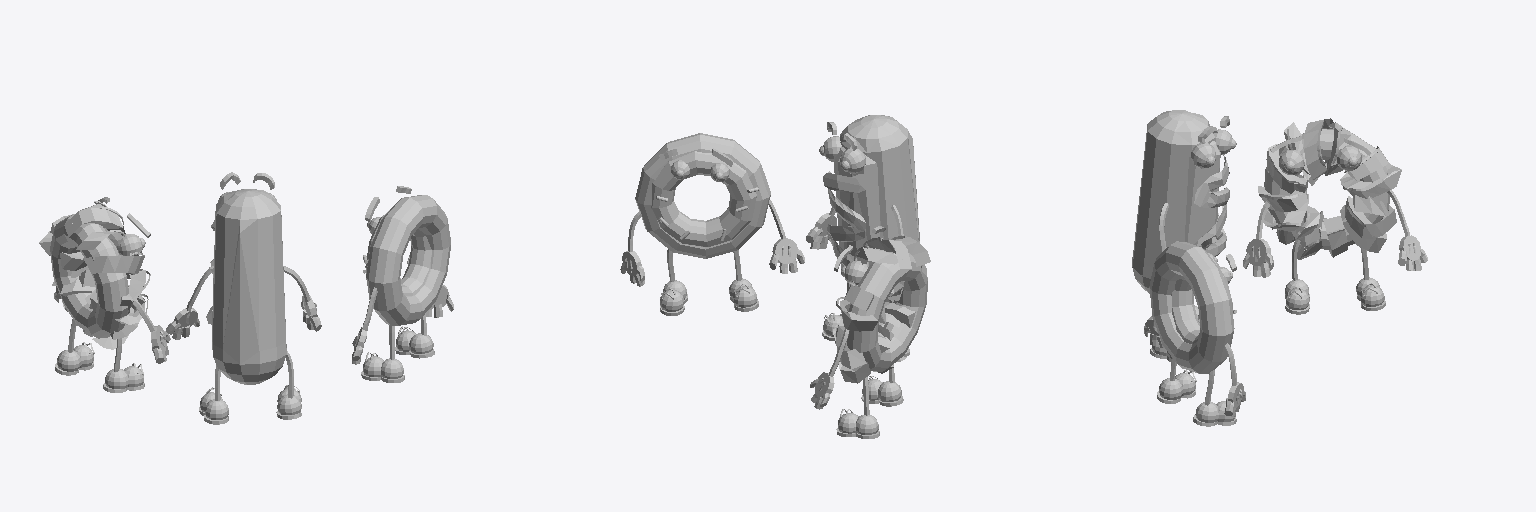
File: dou.obj
3 views of the same model, side by side, from view 1: azimuth 30°, elevation 25°; view 2: azimuth 150°, elevation 25°; view 3: azimuth 270°, elevation 25° (orthographic).
Parts seen in each view (by area): view 1: group[number redacted], group[number redacted], group[number redacted], group[number redacted], group[number redacted], group[number redacted], group[number redacted], group[number redacted], group[number redacted], group[number redacted], group[number redacted], group[number redacted] (+2 smaller); view 2: group[number redacted], group[number redacted], group[number redacted], group[number redacted], group[number redacted], group[number redacted], group[number redacted], group[number redacted], group[number redacted], group[number redacted], group[number redacted], group[number redacted] (+3 smaller); view 3: group[number redacted], group[number redacted], group[number redacted], group[number redacted], group[number redacted], group[number redacted], group[number redacted], group[number redacted], group[number redacted], group[number redacted], group[number redacted], group[number redacted] (+2 smaller).
Part boxes in pixels (left/top/right/bottom): group[number redacted]: left=212, top=189, right=286, bottom=384; group[number redacted]: left=39, top=201, right=150, bottom=349; group[number redacted]: left=366, top=195, right=450, bottom=325; group[number redacted]: left=365, top=210, right=431, bottom=295; group[number redacted]: left=361, top=352, right=404, bottom=382; group[number redacted]: left=55, top=342, right=94, bottom=375; group[number redacted]: left=103, top=363, right=144, bottom=392; group[number redacted]: left=166, top=266, right=213, bottom=339; group[number redacted]: left=395, top=326, right=434, bottom=358; group[number redacted]: left=199, top=387, right=228, bottom=424; group[number redacted]: left=133, top=299, right=170, bottom=363; group[number redacted]: left=283, top=266, right=321, bottom=331; group[number redacted]: left=833, top=236, right=930, bottom=383; group[number redacted]: left=840, top=115, right=919, bottom=302; group[number redacted]: left=635, top=133, right=770, bottom=258; group[number redacted]: left=651, top=151, right=756, bottom=246; group[number redacted]: left=823, top=171, right=870, bottom=265; group[number redacted]: left=834, top=147, right=879, bottom=268; group[number redacted]: left=768, top=200, right=804, bottom=273; group[number redacted]: left=836, top=409, right=879, bottom=438; group[number redacted]: left=810, top=328, right=849, bottom=409; group[number redacted]: left=861, top=376, right=903, bottom=406; group[number redacted]: left=660, top=280, right=687, bottom=315; group[number redacted]: left=620, top=210, right=644, bottom=286; group[number redacted]: left=1258, top=118, right=1401, bottom=259; group[number redacted]: left=1132, top=110, right=1214, bottom=293; group[number redacted]: left=1149, top=241, right=1234, bottom=373; group[number redacted]: left=1185, top=141, right=1220, bottom=244; group[number redacted]: left=1194, top=155, right=1229, bottom=256; group[number redacted]: left=1171, top=256, right=1232, bottom=344; group[number redacted]: left=1243, top=201, right=1273, bottom=277; group[number redacted]: left=1387, top=190, right=1427, bottom=270; group[number redacted]: left=1157, top=370, right=1196, bottom=403; group[number redacted]: left=1193, top=398, right=1236, bottom=426; group[number redacted]: left=1285, top=279, right=1309, bottom=314; group[number redacted]: left=1356, top=277, right=1385, bottom=310.
Bounding box in the file's own units: 2.07 × 1.33 × 1.54.